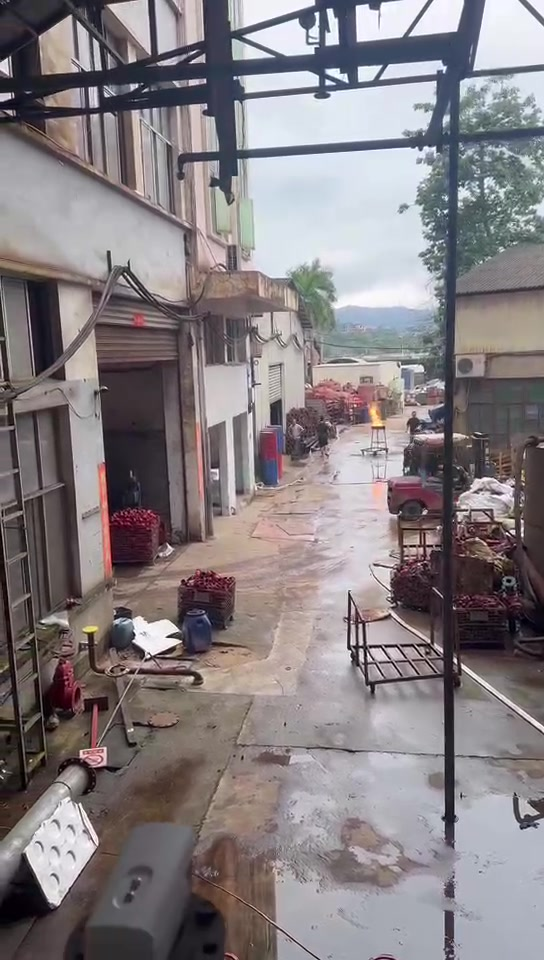fire: (368, 401, 384, 426)
